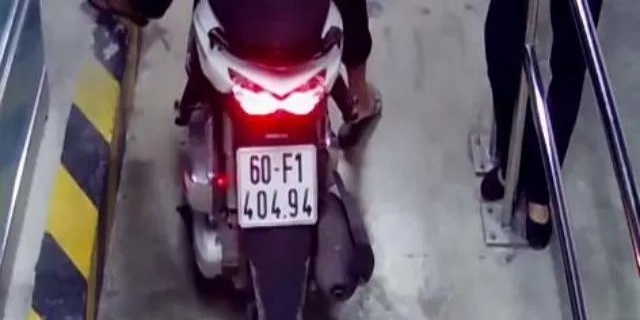bien_so: (236, 144, 323, 228)
